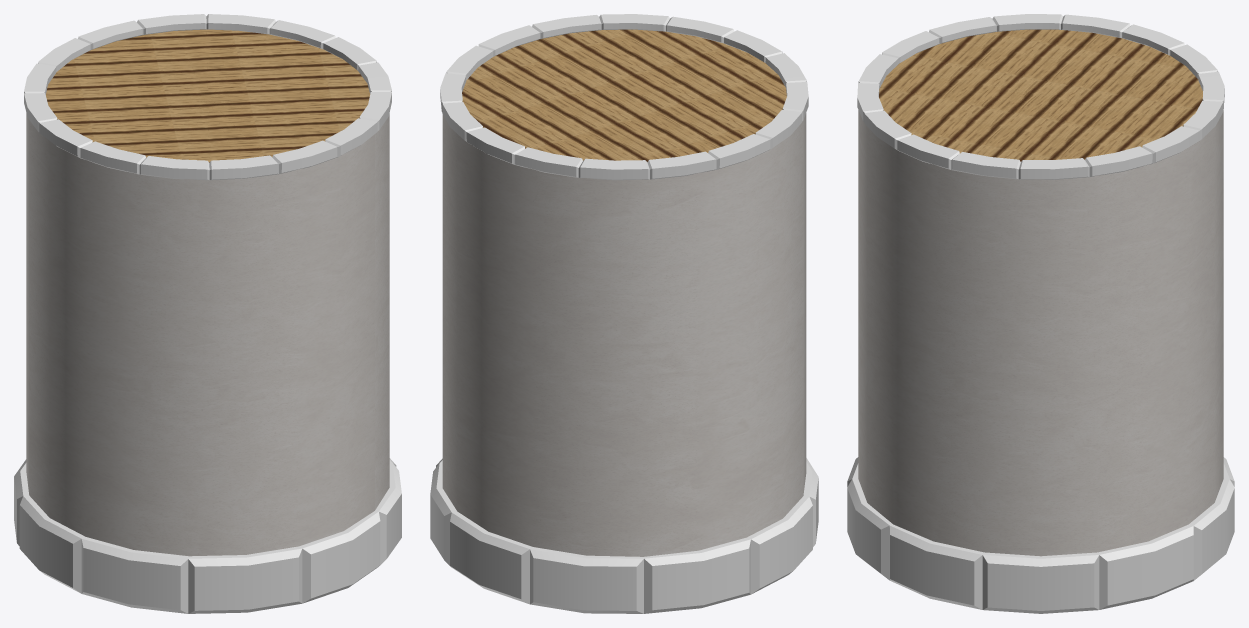
The model's file is SM_world_2_house_1.fbx.
3 views of the same model, side by side, from view 1: azimuth 30°, elevation 25°; view 2: azimuth 150°, elevation 25°; view 3: azimuth 270°, elevation 25° (orthographic).
Visible parts, largest first — view 1: Cylinder.002; view 2: Cylinder.002; view 3: Cylinder.002.
Part boxes in pixels (bbox=[...]): Cylinder.002: bbox=[14, 14, 401, 613]; Cylinder.002: bbox=[430, 14, 818, 613]; Cylinder.002: bbox=[847, 14, 1234, 613].
Size of the model in its own units: 1280 by 1273 by 1605.
